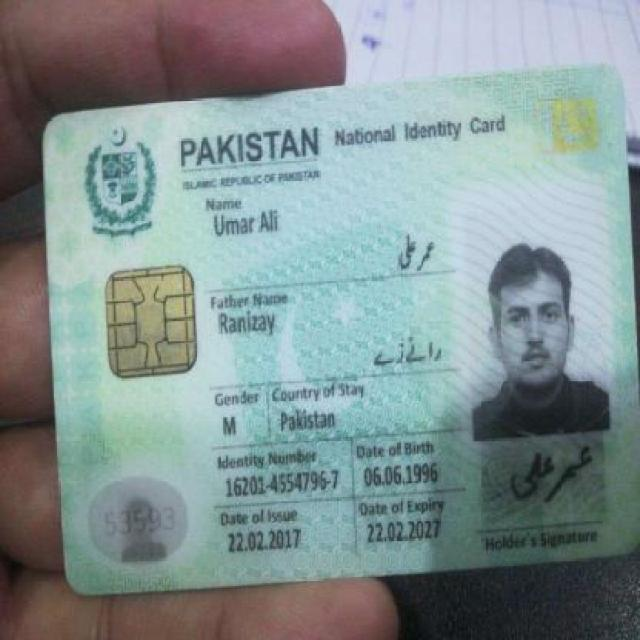Front: (40, 93, 634, 564)
